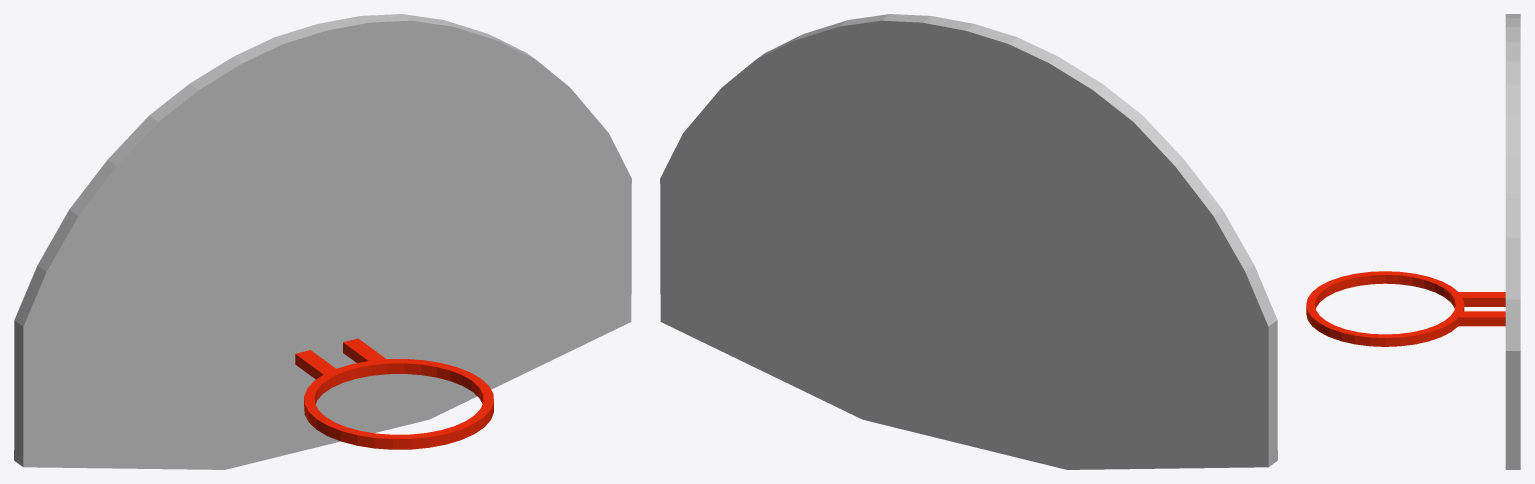
Rendered from basketballHoop01.obj.
The picture shows the model from 3 angles, left to right: view 1: azimuth 30°, elevation 25°; view 2: azimuth 150°, elevation 25°; view 3: azimuth 270°, elevation 25°; orthographic projection. The views are drawn at different scales.
Parts seen in each view (by area): view 1: Circle, Circle.001; view 2: Circle; view 3: Circle, Circle.001.
Part boxes in pixels (<box>): Circle: <box>14,14,631,469</box>; Circle.001: <box>295,338,493,449</box>; Circle: <box>660,14,1277,469</box>; Circle: <box>1505,14,1520,469</box>; Circle.001: <box>1306,271,1505,346</box>.
Bounding box in the file's own units: 2.93 × 1.91 × 1.08.
